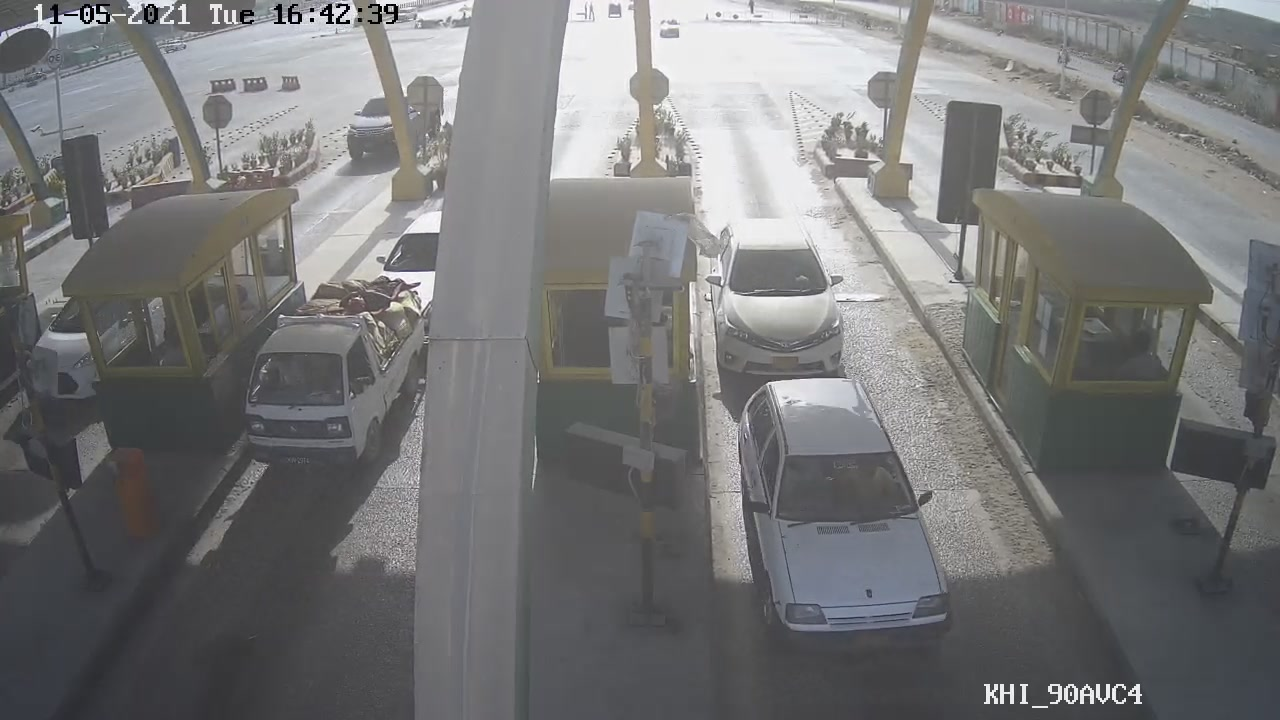F1: (732, 373, 968, 667)
